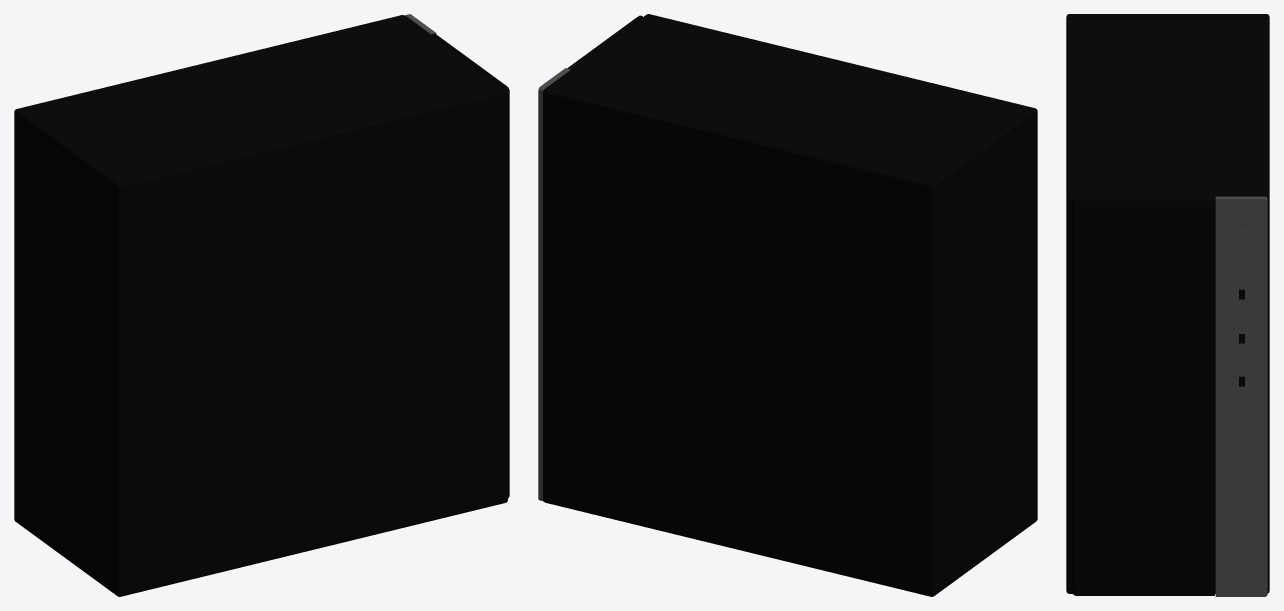
Rendered from ComputerV3.fbx.
3 views of the same model, side by side, from view 1: azimuth 30°, elevation 25°; view 2: azimuth 150°, elevation 25°; view 3: azimuth 270°, elevation 25° (orthographic). The views are drawn at different scales.
Parts seen in each view (by area): view 1: Computer; view 2: Computer; view 3: Computer.
Part boxes in pixels (x1,y1,x2,y2): Computer: (14, 14, 509, 596); Computer: (538, 14, 1037, 596); Computer: (1066, 14, 1269, 596).
Bounding box in the file's own units: 848 × 844 × 390.
